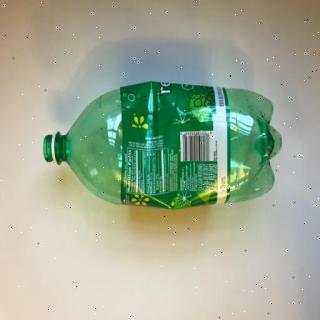Plastic-bottle: (42, 81, 284, 213)
